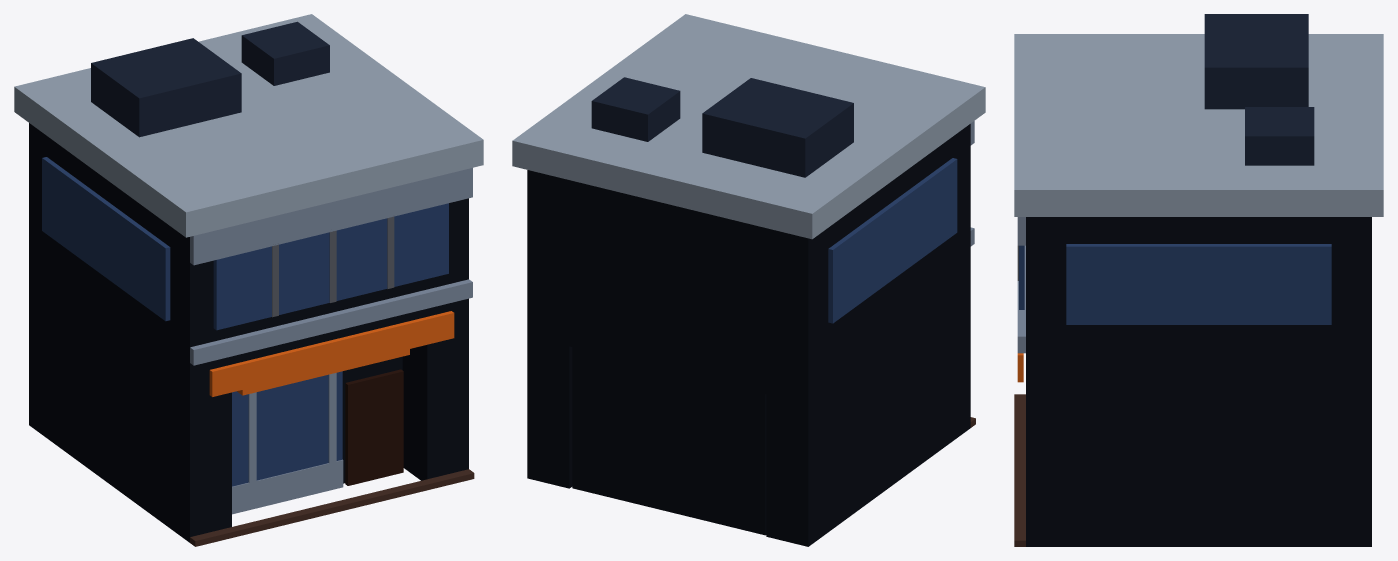
Rendered from highstreet5.obj.
3 renders of one model, left to right at view 1: azimuth 30°, elevation 25°; view 2: azimuth 150°, elevation 25°; view 3: azimuth 270°, elevation 25°, orthographic. The views are drawn at different scales.
Visible parts, largest first — view 1: parapet, ground-piers, upper-floor, loft-glazing, roof-plant, lintel, side-glazing, shopfront, fascia-sign, shop-door, mullions, pavement (+4 smaller); view 2: parapet, upper-floor, ground-piers, ground-back, roof-plant, side-glazing, shopfront-head; view 3: ground-piers, parapet, upper-floor, side-glazing, roof-plant, pavement, lintel.
Part boxes in pixels (left/top/right/bottom): parapet: left=14, top=14, right=483, bottom=237; ground-piers: left=29, top=245, right=468, bottom=542; upper-floor: left=29, top=123, right=468, bottom=362; loft-glazing: left=213, top=203, right=448, bottom=330; roof-plant: left=91, top=21, right=329, bottom=137; lintel: left=190, top=168, right=472, bottom=365; side-glazing: left=42, top=157, right=170, bottom=321; shopfront: left=232, top=371, right=342, bottom=486; fascia-sign: left=209, top=311, right=454, bottom=396; shop-door: left=345, top=369, right=403, bottom=485; mullions: left=232, top=373, right=343, bottom=514; pavement: left=190, top=469, right=474, bottom=546; parapet: left=512, top=14, right=985, bottom=239; upper-floor: left=527, top=124, right=970, bottom=365; ground-piers: left=527, top=247, right=970, bottom=546; ground-back: left=572, top=347, right=766, bottom=535; roof-plant: left=591, top=77, right=853, bottom=177; side-glazing: left=828, top=158, right=957, bottom=323; shopfront-head: left=569, top=307, right=766, bottom=394; ground-piers: left=1026, top=353, right=1371, bottom=546; parapet: left=1014, top=34, right=1383, bottom=216; upper-floor: left=1026, top=217, right=1371, bottom=353; side-glazing: left=1066, top=244, right=1331, bottom=324; roof-plant: left=1204, top=14, right=1314, bottom=165; pavement: left=1014, top=394, right=1025, bottom=546; lintel: left=1017, top=217, right=1025, bottom=353.
Bounding box in the file's own units: 3.2 × 3.86 × 3.2.
